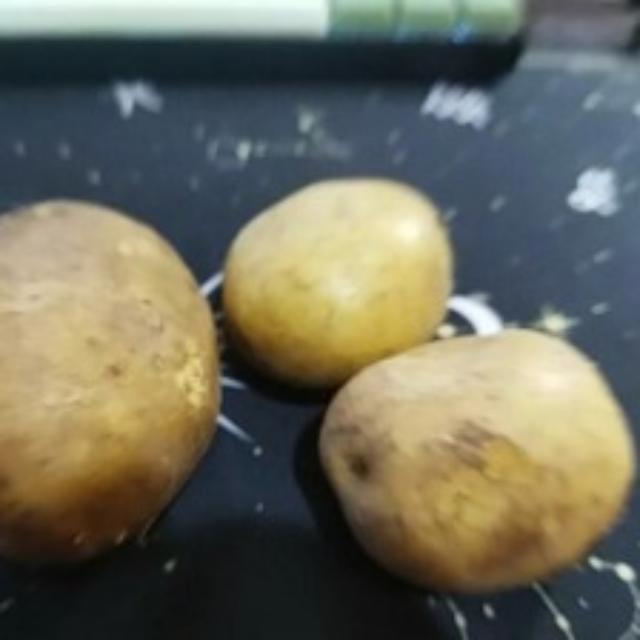Damaged potato: (313, 308, 637, 594), (1, 196, 220, 572)
Potato: (218, 174, 457, 390)
